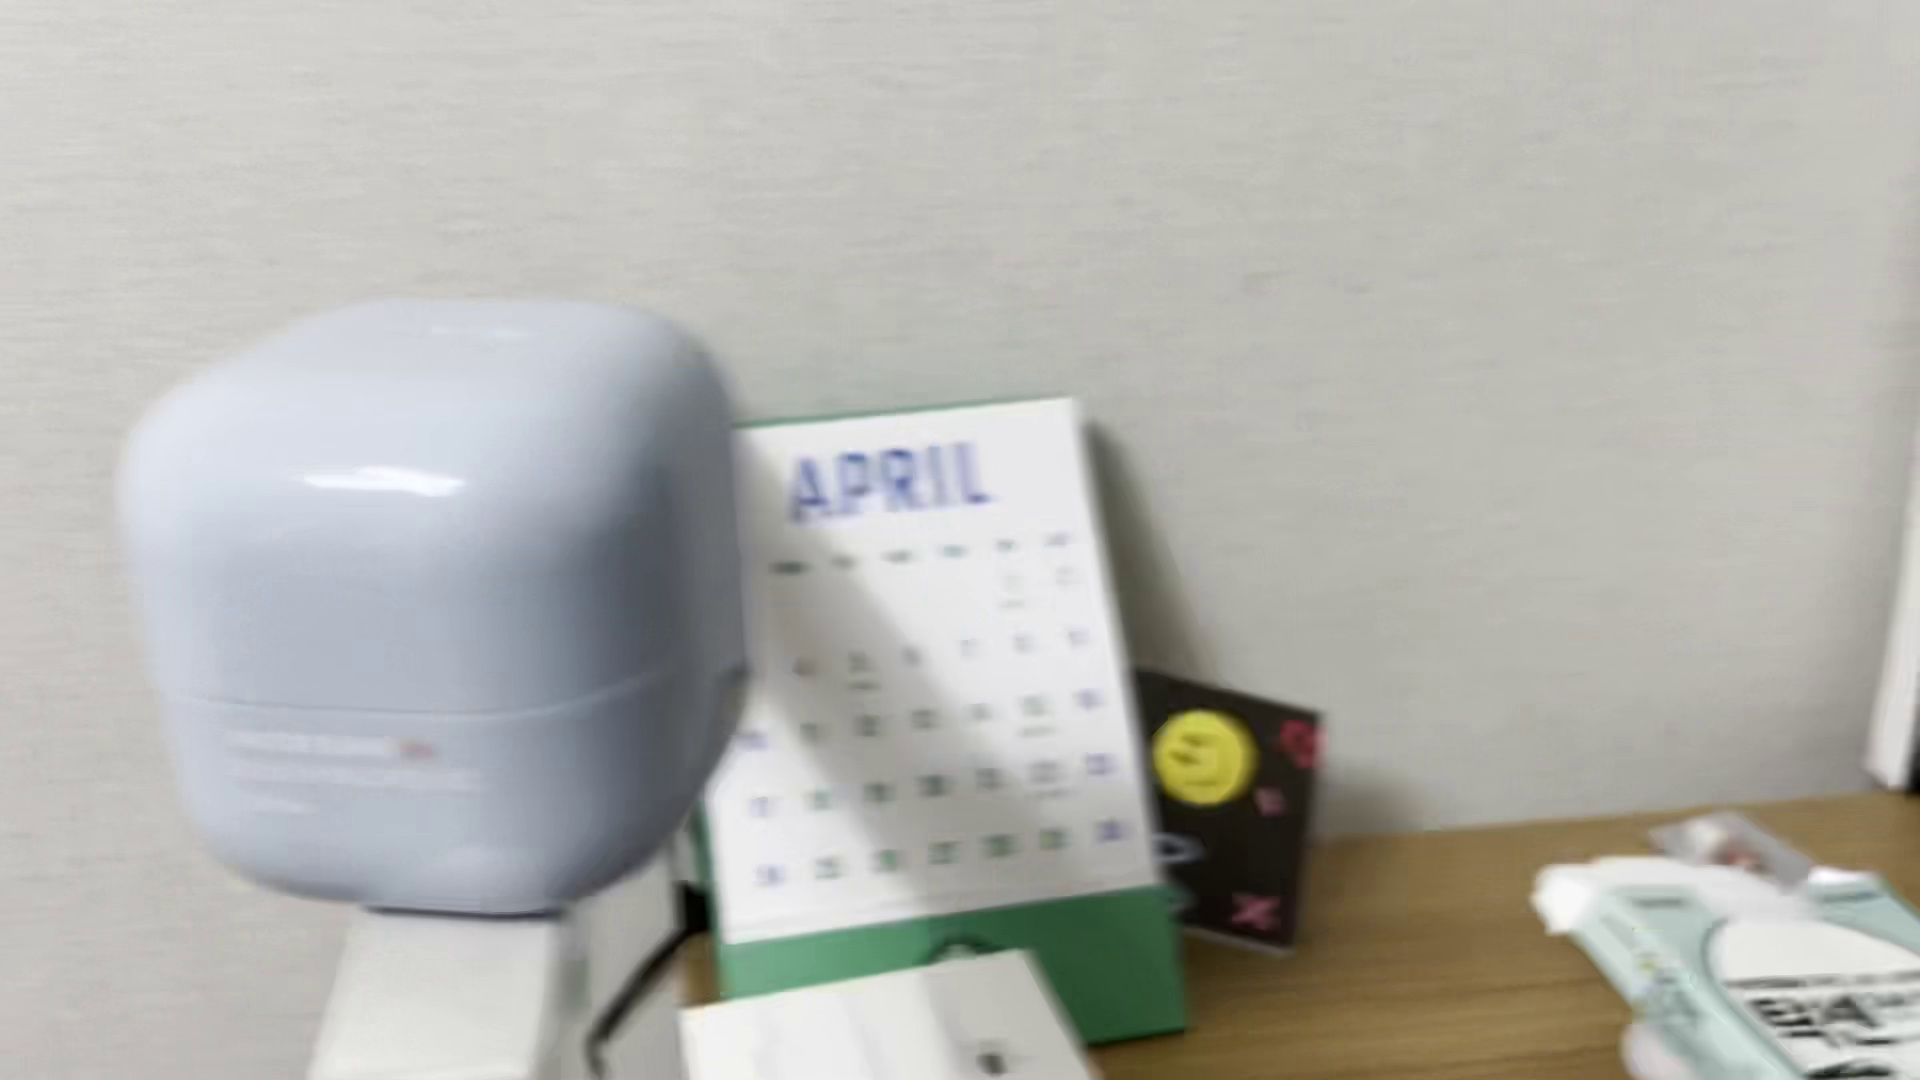cream: (116, 295, 754, 919)
